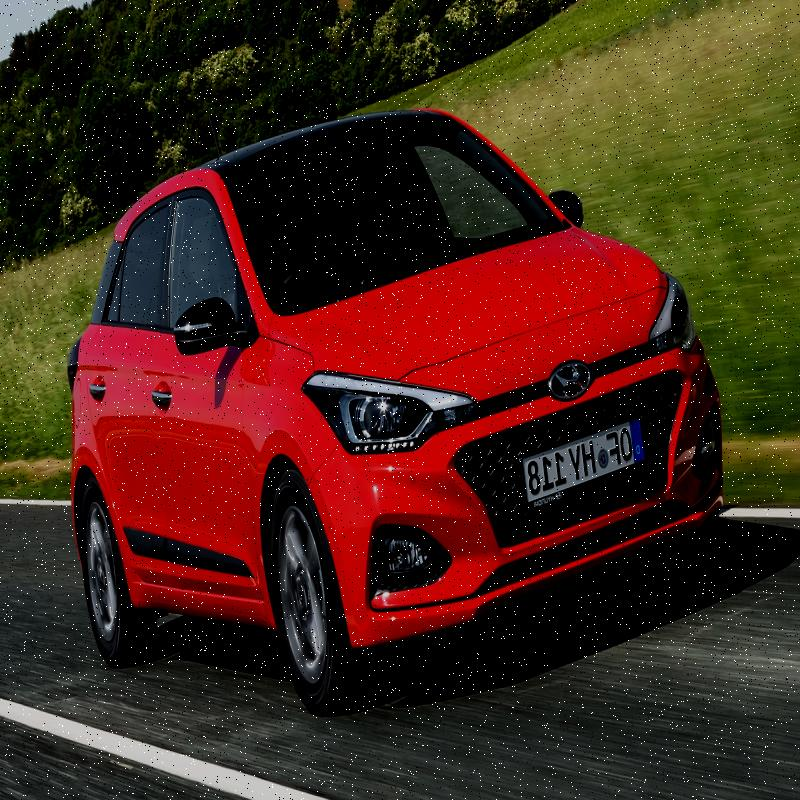car: (93, 76, 722, 685)
